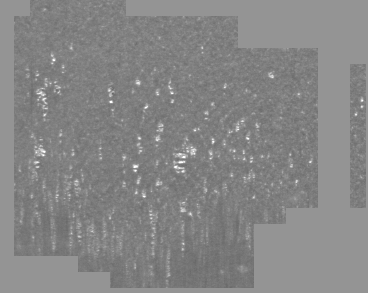oxl: (35, 10, 333, 283)
